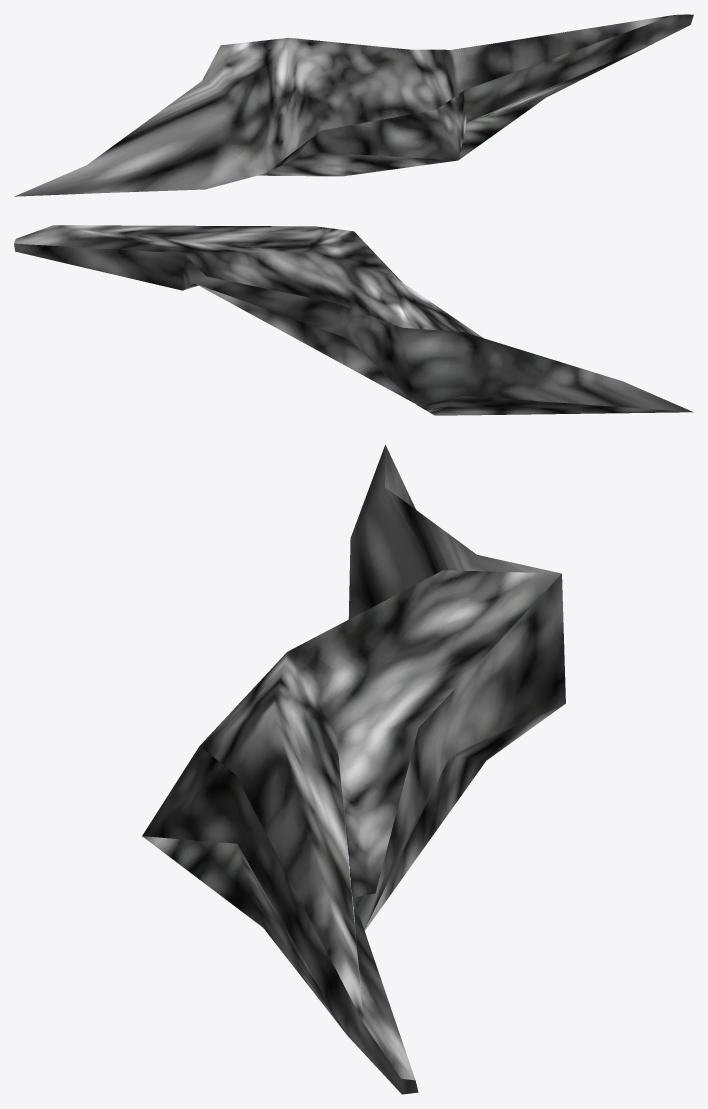
3 renders of one model, top to bottom at view 1: azimuth 30°, elevation 25°; view 2: azimuth 150°, elevation 25°; view 3: azimuth 270°, elevation 25°, orthographic. The views are drawn at different scales.
Visible parts, largest first — view 1: SM_VFX_CrystalBow_Shard_LOD0; view 2: SM_VFX_CrystalBow_Shard_LOD0; view 3: SM_VFX_CrystalBow_Shard_LOD0.
Part boxes in pixels (bbox=[...]): SM_VFX_CrystalBow_Shard_LOD0: bbox=[14, 14, 693, 196]; SM_VFX_CrystalBow_Shard_LOD0: bbox=[14, 225, 693, 415]; SM_VFX_CrystalBow_Shard_LOD0: bbox=[142, 445, 565, 1094].
Size of the model in its own units: 0.7177 by 0.1316 by 0.1954.
Materials: 1 (1 with a texture image).
